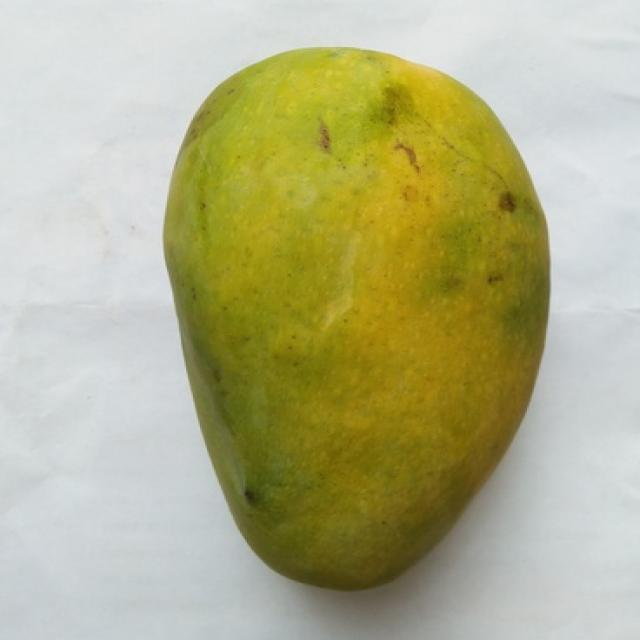Mango: (165, 50, 546, 589)
